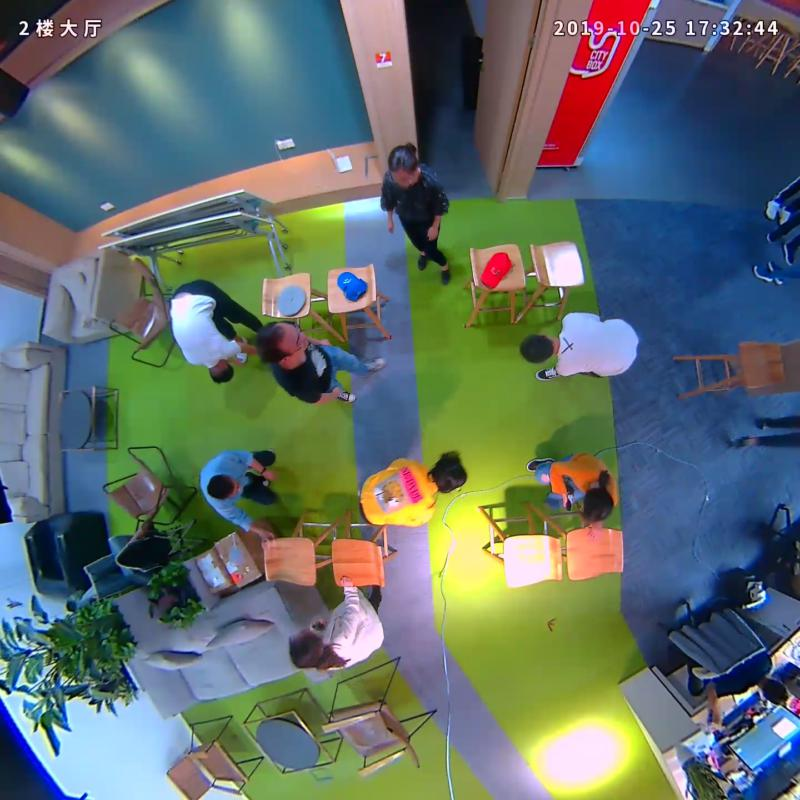head: (252, 318, 313, 366), (282, 625, 329, 680), (565, 481, 619, 527), (383, 139, 429, 192), (421, 449, 470, 497), (514, 328, 560, 374), (194, 359, 236, 393), (200, 472, 241, 503)
